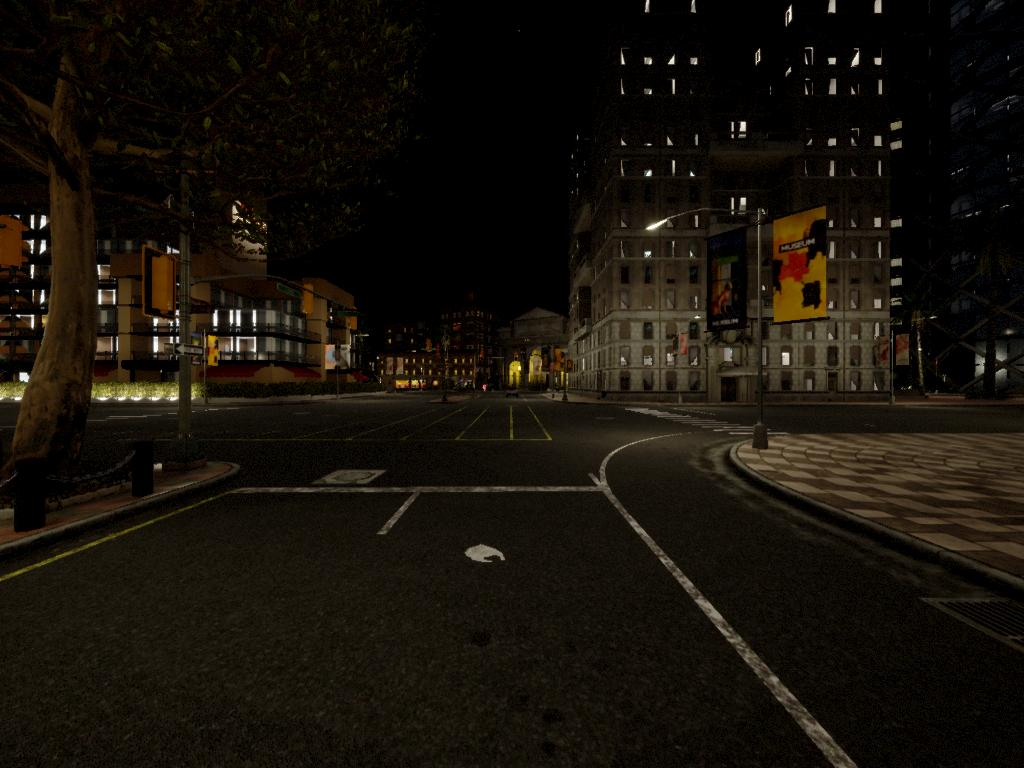traffic_light: (1, 209, 28, 278), (149, 253, 179, 314), (567, 360, 577, 373)
